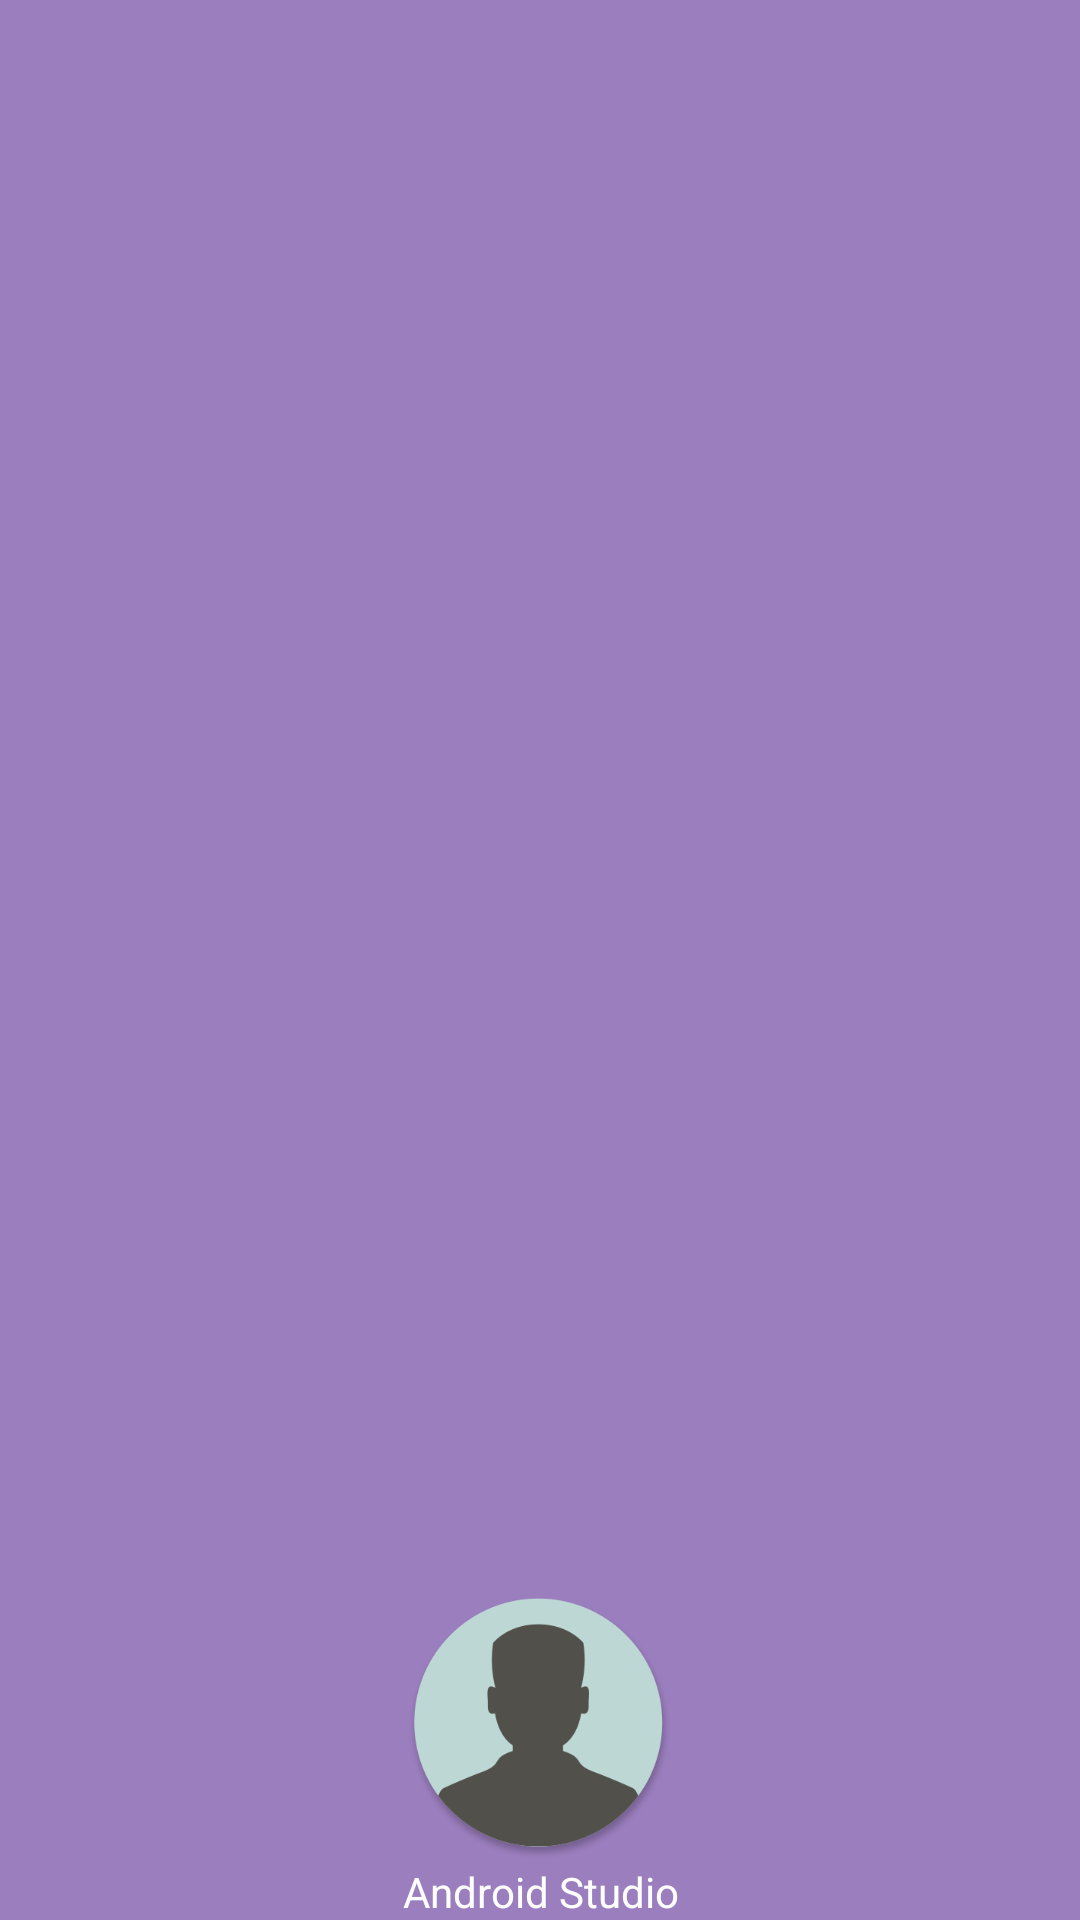

Where icons sit on this 1080*1920 app screen, as (x1, y1, x2, y2):
person: (414, 1598, 663, 1852)
